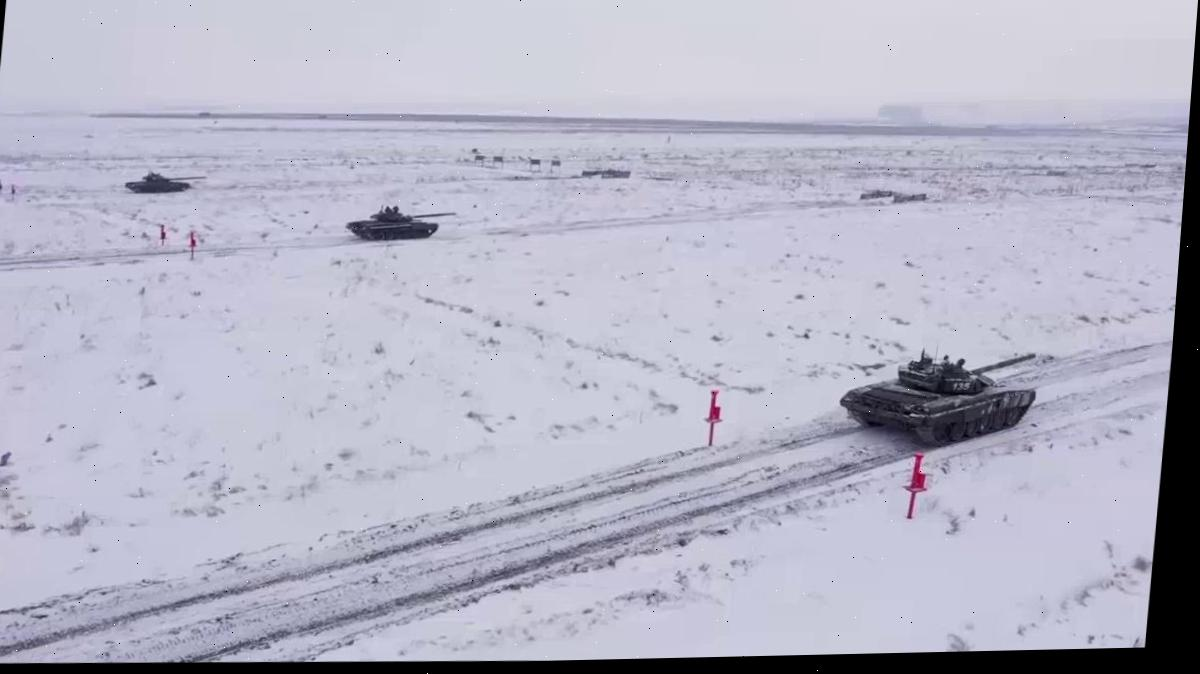tank: (835, 344, 1042, 452), (344, 202, 458, 243), (124, 169, 208, 195)
